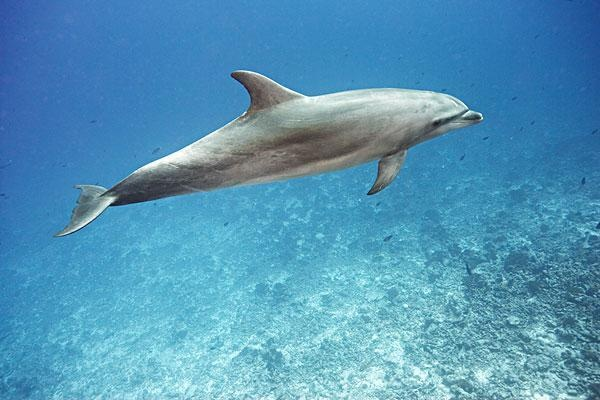fish: (53, 65, 488, 237)
